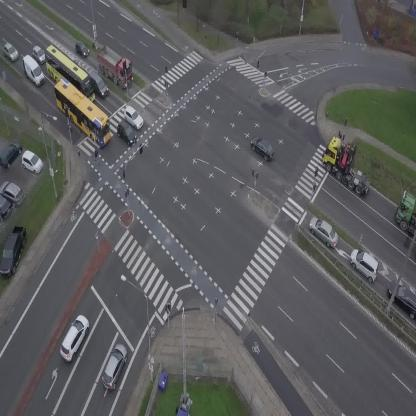bicycle: (92, 149, 99, 163)
bus: (44, 75, 120, 148), (34, 43, 104, 107)
car: (55, 312, 94, 362), (98, 342, 131, 392), (344, 245, 386, 283), (304, 213, 344, 250), (247, 133, 279, 163), (112, 119, 141, 147), (119, 104, 147, 131), (87, 69, 110, 98), (70, 38, 91, 60), (0, 41, 20, 63), (32, 45, 44, 64), (70, 55, 79, 64)
lorry: (313, 131, 387, 198), (87, 41, 142, 91), (17, 53, 48, 89), (396, 191, 416, 237)
